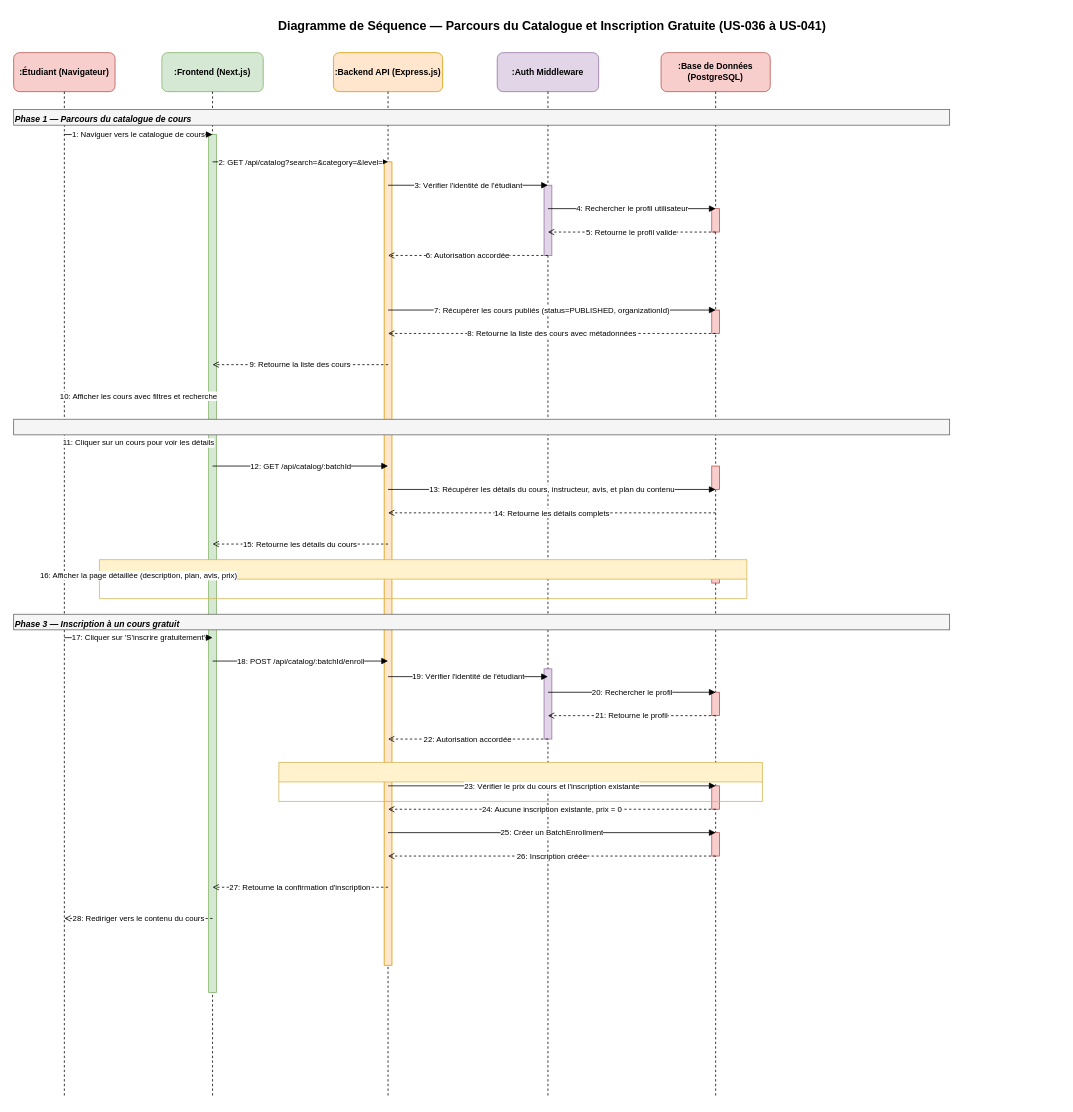
Some shapes in this 1073 by 1112 pixel diagram are drawn without their labels. The shapes that lost their labels are listed below. From the top down, each one's box as (x1, y1, x2, y2) in pixels, then its label:
(13, 418, 950, 435): Phase 2 — Consultation des détails d'un cours
(99, 559, 747, 599): [opt] L'étudiant peut noter et commenter un cours complété (US-040)
(278, 762, 762, 801): [alt] Cours payant → Rediriger vers le paiement | Déjà inscrit → Erreur 409
